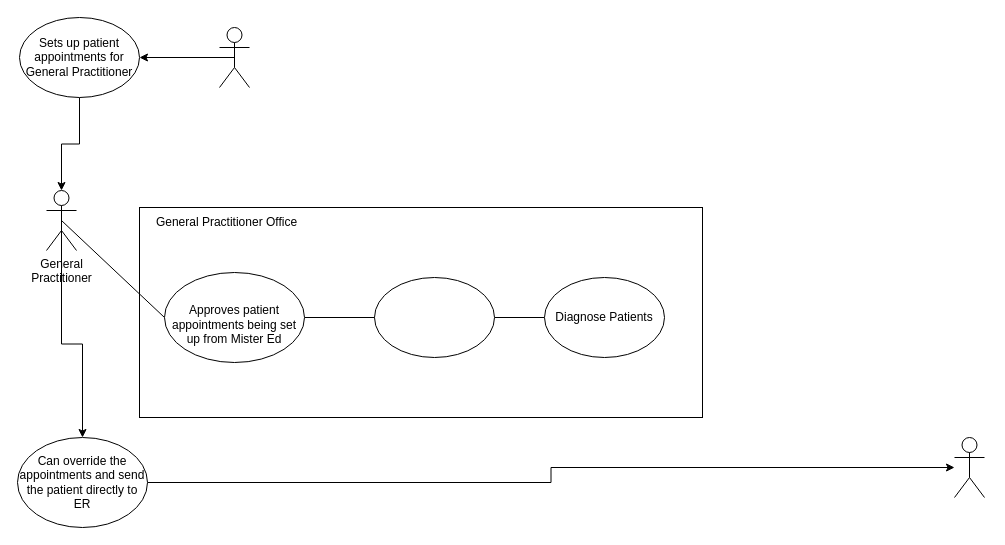
Some shapes in this 1005 by 545 pixel diagram are drawn without their labels. The shapes that lost their labels are listed below. From the top down, each one's centre as x and y in pixels, then its label:
At point (234, 57): "System (Mister Ed)".
At point (434, 317): "Sees Patients".
At point (969, 467): "Patient".
